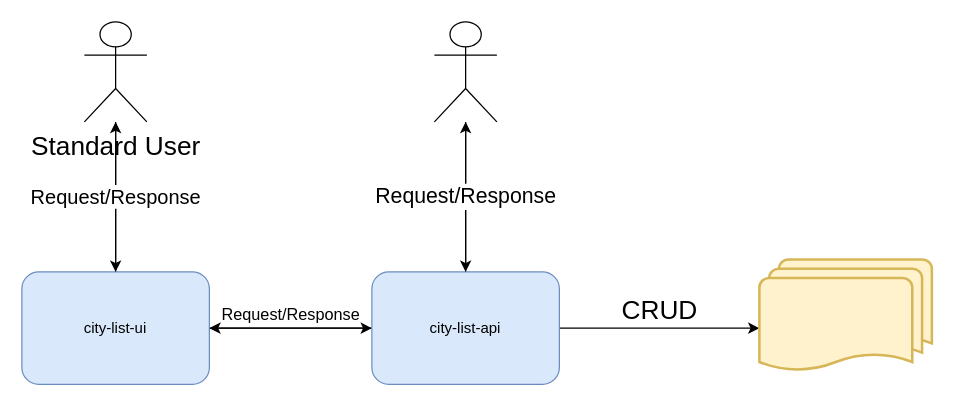
The diagram is 955 pixels wide and 406 high, and some of its shapes have lost their labels. Each missing label, with the centre of its shape:
B2B User: point 465,71
MongoDB: point 845,315
